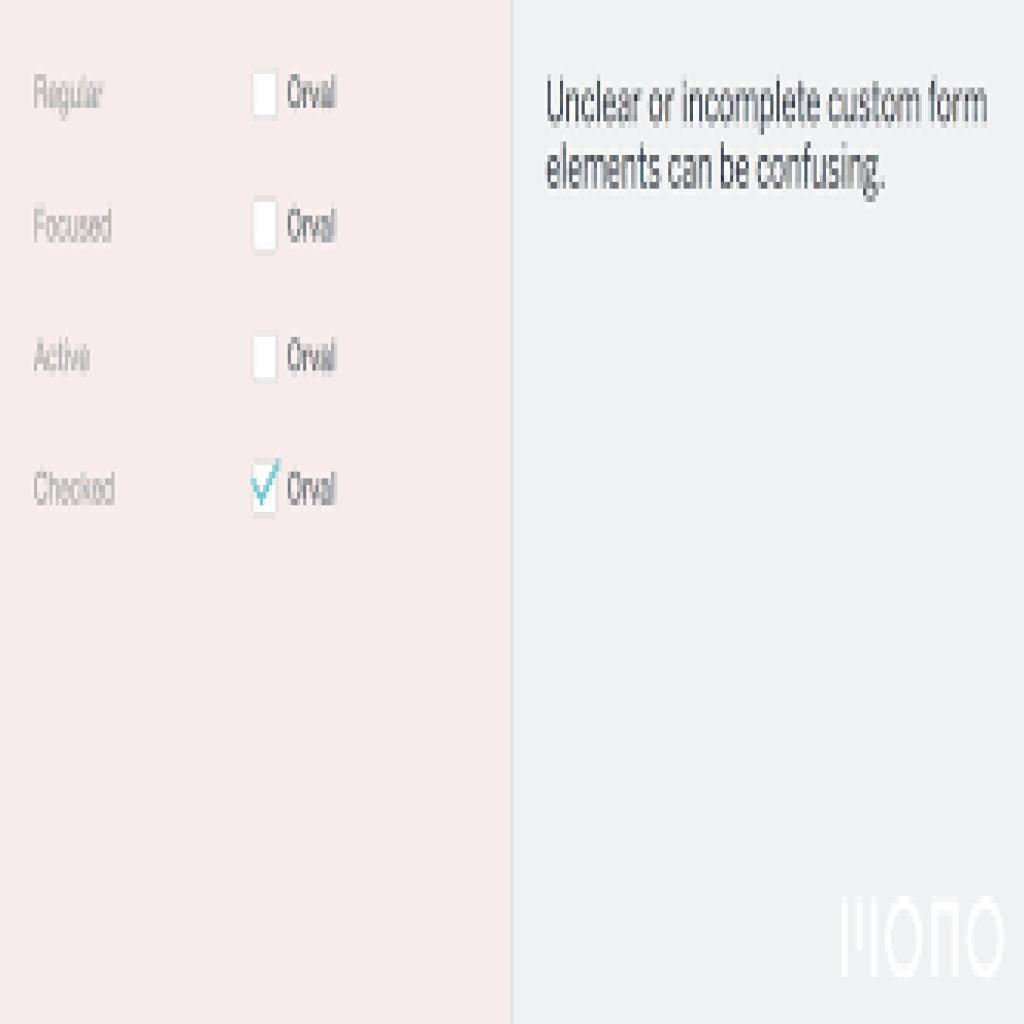checkbox: (253, 200, 278, 254), (254, 333, 279, 384), (254, 464, 279, 514), (253, 73, 280, 118)
label: (32, 196, 119, 254), (35, 466, 130, 517), (30, 74, 108, 119), (282, 337, 348, 385), (31, 335, 98, 379), (284, 66, 343, 115), (284, 204, 344, 250), (284, 472, 344, 511)
